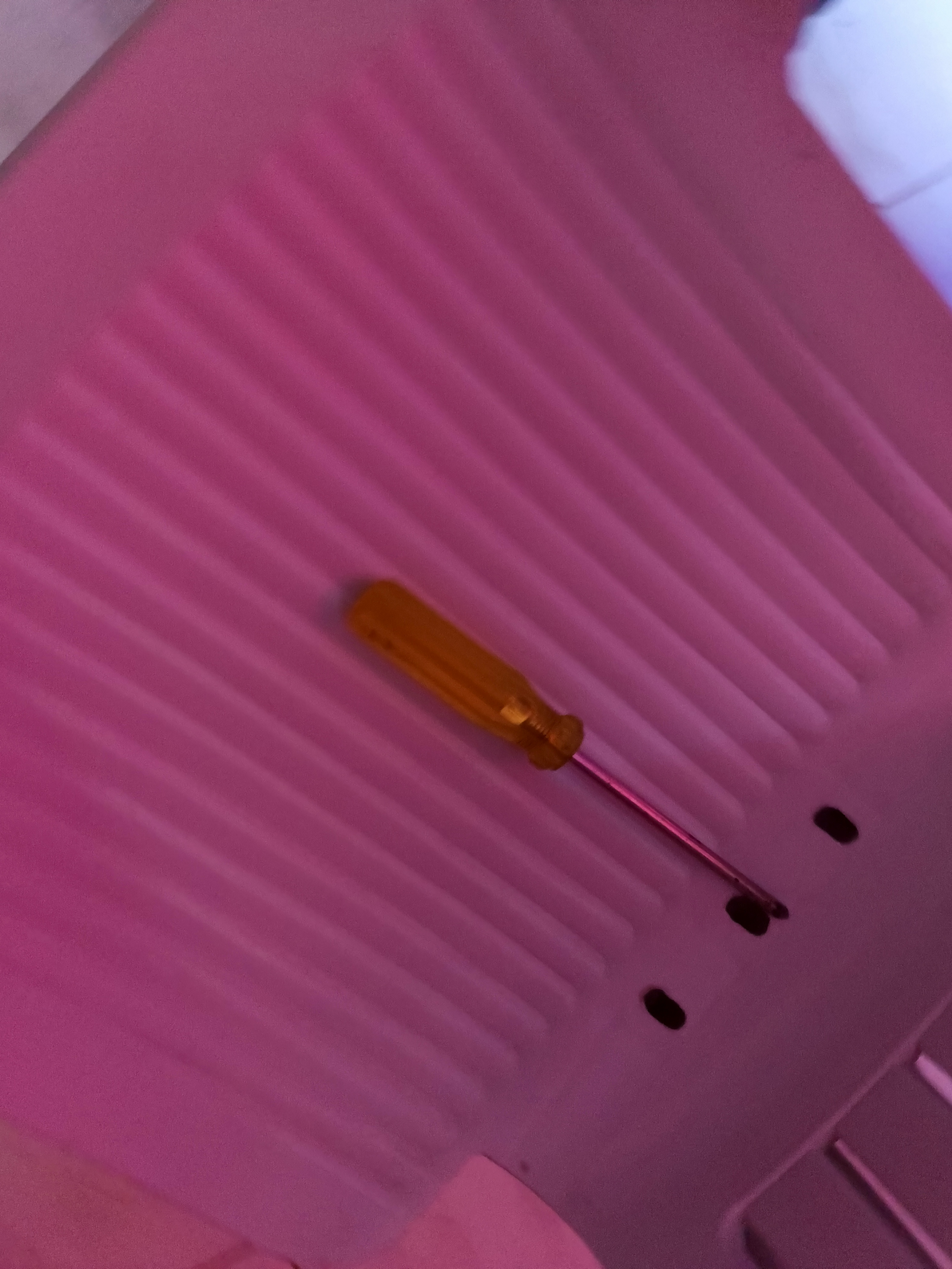Destornillador: (347, 580, 788, 918)
